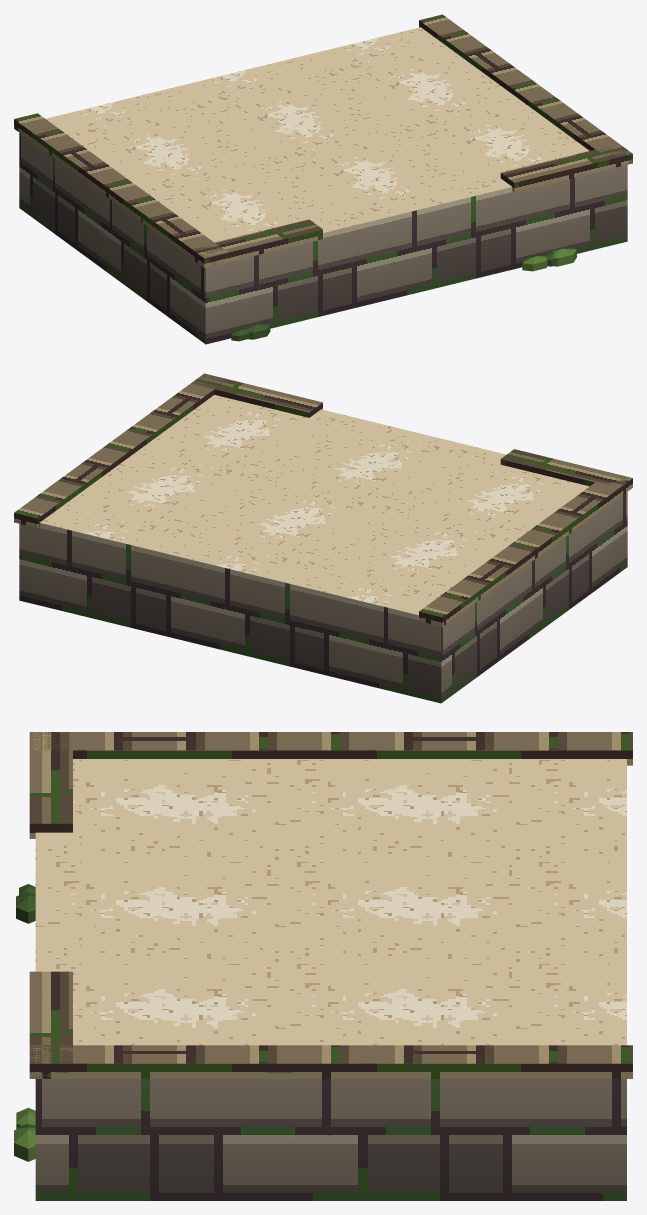
Rendered from scene_grave_ledge.glb.
3 renders of one model, top to bottom at view 1: azimuth 30°, elevation 25°; view 2: azimuth 150°, elevation 25°; view 3: azimuth 270°, elevation 25°, orthographic. The views are drawn at different scales.
Parts seen in each view (by area): view 1: scene_grave_ledge; view 2: scene_grave_ledge; view 3: scene_grave_ledge.
Boxes of the visible parts, <box> form: scene_grave_ledge: <box>14,14,632,344</box>; scene_grave_ledge: <box>14,373,632,703</box>; scene_grave_ledge: <box>14,732,632,1200</box>.
Size of the model in its own units: 6.5 by 1.36 by 5.13.
3 materials, 2 textured.
